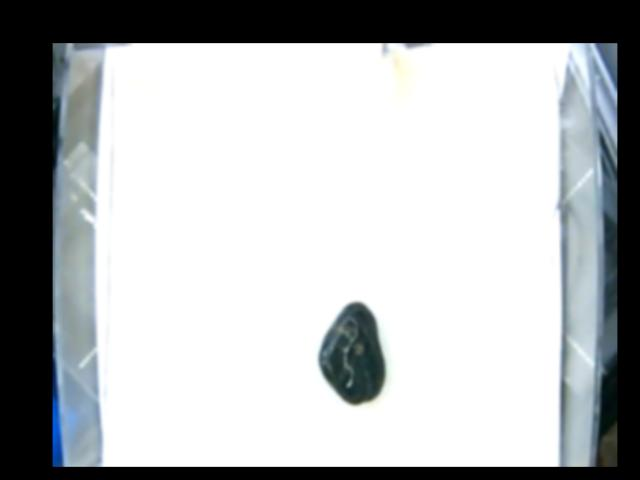Pebble: (319, 300, 386, 405)
